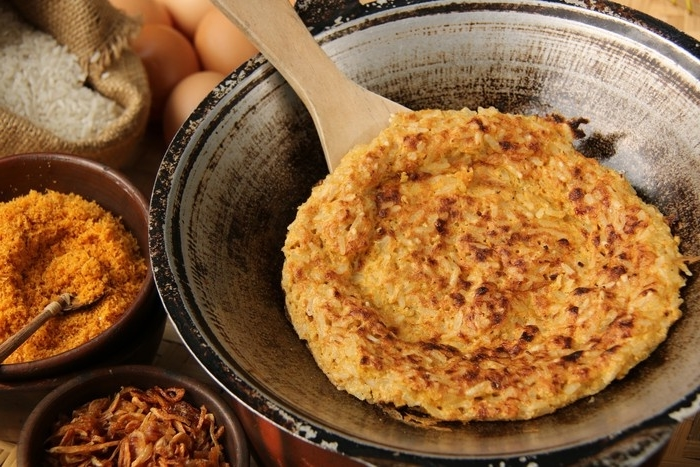kerak_telor: (280, 105, 686, 423)
